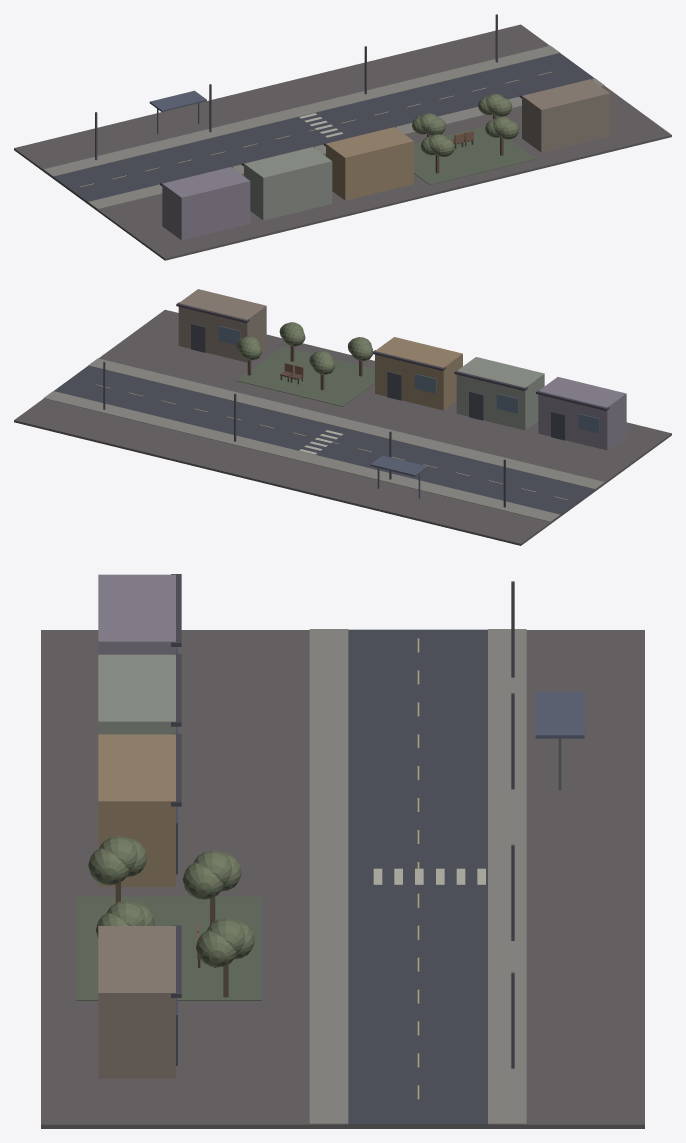
The model's file is barrioDars.obj.
The picture shows the model from 3 angles, top to bottom: view 1: azimuth 30°, elevation 25°; view 2: azimuth 150°, elevation 25°; view 3: azimuth 270°, elevation 25°; orthographic projection. The views are drawn at different scales.
Visible parts, largest first — view 1: Suelo_continuo, Asfalto, Banqueta, Fachada_CASA_FAMILIAR, Fachada_CASA_DE_DARS, Fachada_PAPELERÍA, Fachada_ABARROTES, Parque, Copa_de_árbol, Techo_de_parada, Alero, Poste_de_luz (+1 smaller); view 2: Suelo_continuo, Asfalto, Banqueta, Fachada_CASA_DE_DARS, Fachada_PAPELERÍA, Parque, Fachada_ABARROTES, Fachada_CASA_FAMILIAR, Copa_de_árbol, Marco_de_acceso, Cristal_de_local, Alero (+3 smaller); view 3: Suelo_continuo, Asfalto, Banqueta, Fachada_CASA_FAMILIAR, Fachada_ABARROTES, Parque, Copa_de_árbol, Fachada_PAPELERÍA, Fachada_CASA_DE_DARS, Techo_de_parada, Alero, Pintura_vial (+1 smaller).
Boxes of the visible parts, x1=… form: Suelo_continuo: x1=14, y1=24, x2=671, y2=260; Asfalto: x1=53, y1=53, x2=594, y2=202; Banqueta: x1=43, y1=45, x2=604, y2=209; Fachada_CASA_FAMILIAR: x1=522, y1=79, x2=610, y2=152; Fachada_CASA_DE_DARS: x1=162, y1=167, x2=250, y2=240; Fachada_PAPELERÍA: x1=244, y1=147, x2=332, y2=220; Fachada_ABARROTES: x1=326, y1=127, x2=413, y2=200; Parque: x1=414, y1=126, x2=535, y2=185; Copa_de_árbol: x1=412, y1=94, x2=519, y2=156; Techo_de_parada: x1=149, y1=90, x2=206, y2=111; Alero: x1=160, y1=78, x2=592, y2=186; Poste_de_luz: x1=95, y1=14, x2=497, y2=159; Suelo_continuo: x1=14, y1=309, x2=671, y2=545; Asfalto: x1=54, y1=365, x2=595, y2=514; Banqueta: x1=43, y1=358, x2=604, y2=521; Fachada_CASA_DE_DARS: x1=538, y1=377, x2=626, y2=450; Fachada_PAPELERÍA: x1=456, y1=357, x2=544, y2=430; Parque: x1=236, y1=346, x2=374, y2=406; Fachada_ABARROTES: x1=375, y1=337, x2=462, y2=410; Fachada_CASA_FAMILIAR: x1=178, y1=289, x2=266, y2=362; Copa_de_árbol: x1=236, y1=322, x2=373, y2=374; Marco_de_acceso: x1=191, y1=323, x2=565, y2=440; Cristal_de_local: x1=218, y1=326, x2=599, y2=433; Alero: x1=176, y1=302, x2=609, y2=410; Suelo_continuo: x1=41, y1=630, x2=644, y2=1128; Asfalto: x1=345, y1=629, x2=491, y2=1124; Banqueta: x1=309, y1=629, x2=526, y2=1124; Fachada_CASA_FAMILIAR: x1=98, y1=926, x2=175, y2=1078; Fachada_ABARROTES: x1=98, y1=734, x2=175, y2=886; Parque: x1=76, y1=896, x2=261, y2=1000; Copa_de_árbol: x1=88, y1=836, x2=254, y2=967; Fachada_PAPELERÍA: x1=98, y1=654, x2=175, y2=734; Fachada_CASA_DE_DARS: x1=98, y1=574, x2=175, y2=654; Techo_de_parada: x1=535, y1=691, x2=584, y2=738; Alero: x1=171, y1=574, x2=181, y2=997; Pintura_vial: x1=373, y1=638, x2=485, y2=1099.
Bounding box in the file's own units: 62 × 5.84 × 32.
